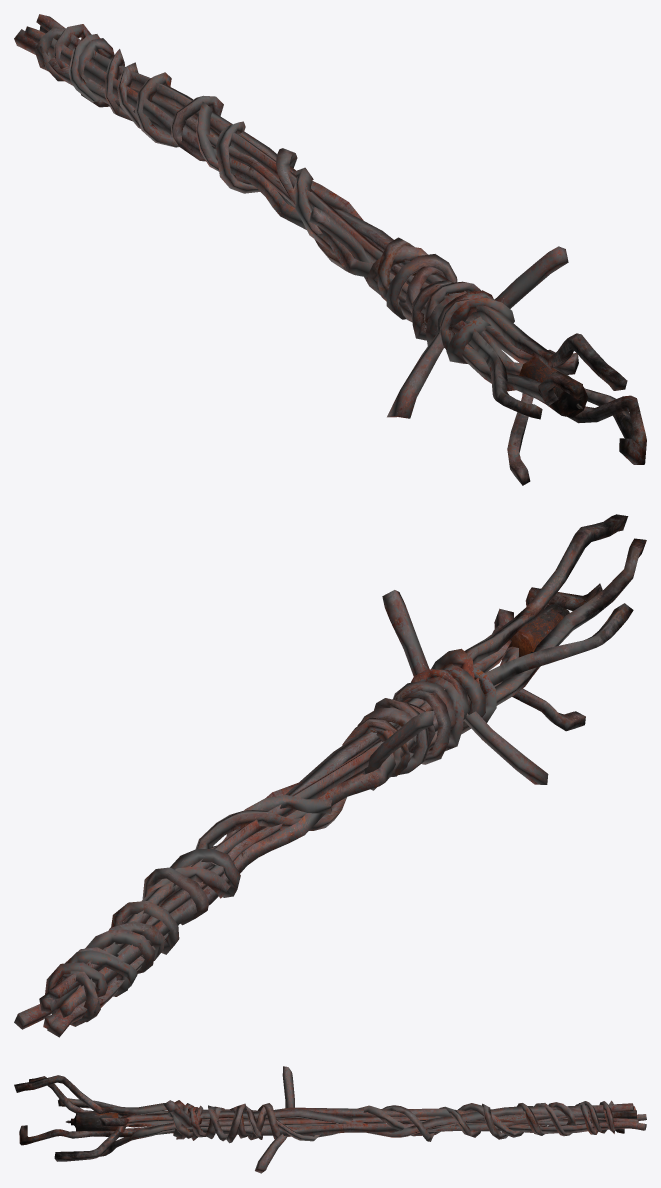
3 views of the same model, one above another, from view 1: azimuth 30°, elevation 25°; view 2: azimuth 150°, elevation 25°; view 3: azimuth 270°, elevation 25° (orthographic). The views are drawn at different scales.
Visible parts, largest first — view 1: WP_A_3004; view 2: WP_A_3004; view 3: WP_A_3004.
Boxes of the visible parts, x1,y1,x2,y2 form: WP_A_3004: (14, 14, 646, 485); WP_A_3004: (14, 514, 646, 1037); WP_A_3004: (14, 1066, 646, 1173).
Bounding box in the file's own units: 13.76 × 12.72 × 81.24.
Materials: 1 (1 with a texture image).
